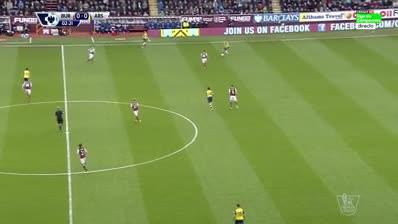futbol: (219, 52, 225, 58)
player: (74, 143, 92, 174), (227, 81, 242, 112), (129, 96, 145, 125), (203, 85, 218, 112), (230, 201, 248, 223), (21, 77, 34, 104), (84, 42, 99, 65), (199, 48, 211, 72), (140, 30, 152, 49), (220, 39, 232, 58), (21, 67, 32, 79)
referree: (53, 104, 66, 134)
